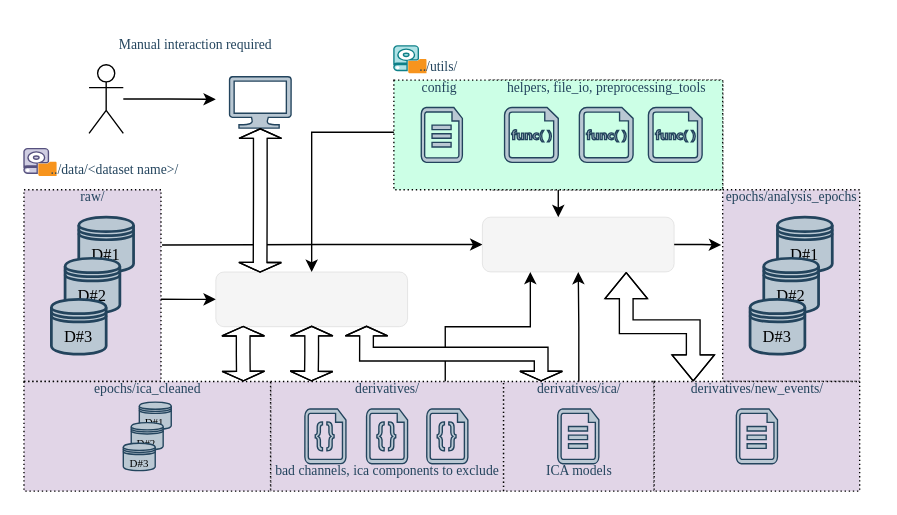
Image size: 897x515. Some labels were removed from this diagram. The shapes that lost their labels are listed below. From the top down, each one's centre as x and y in pixels, then its label:
At point (577, 243): "Main Preprocessing Pipeline".
At point (311, 298): "Initial Preparatory Steps".
